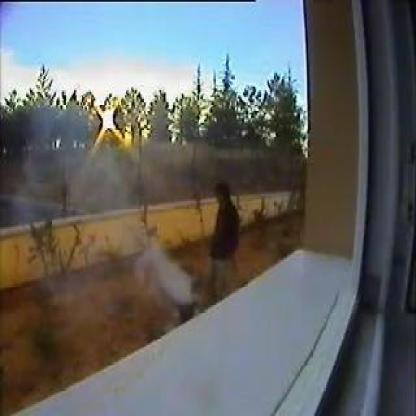-: (141, 246, 188, 302)
